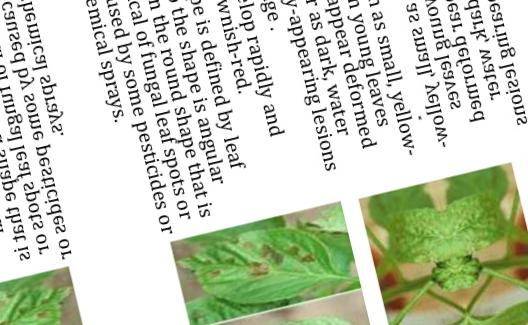Tomato leaf bacterial spot: (182, 212, 356, 320), (373, 201, 455, 279), (202, 301, 380, 325)
